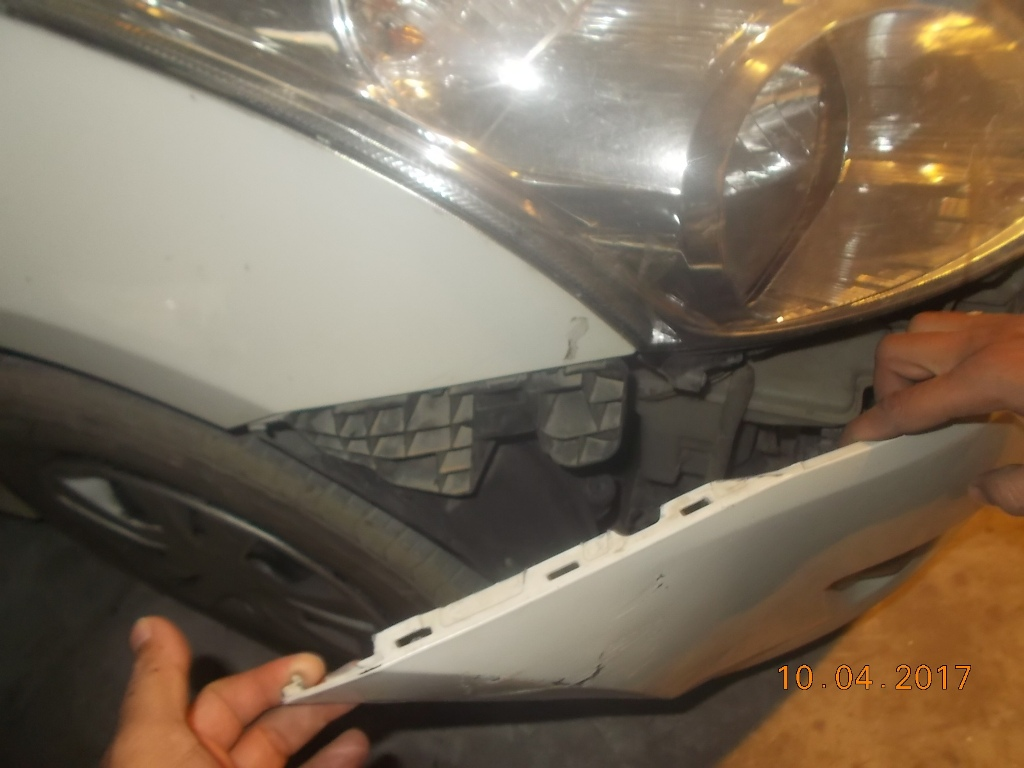Dislocation: (230, 320, 825, 653)
